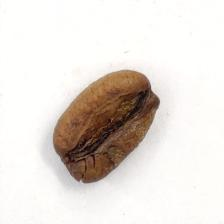NG: (54, 92, 154, 181)
